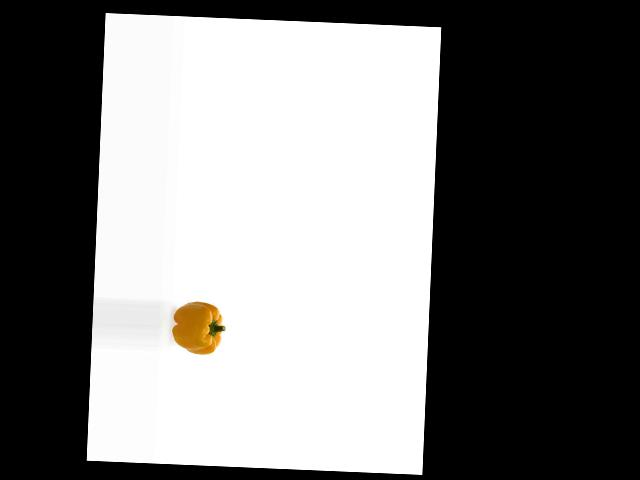bell_pepper: (170, 301, 228, 359)
